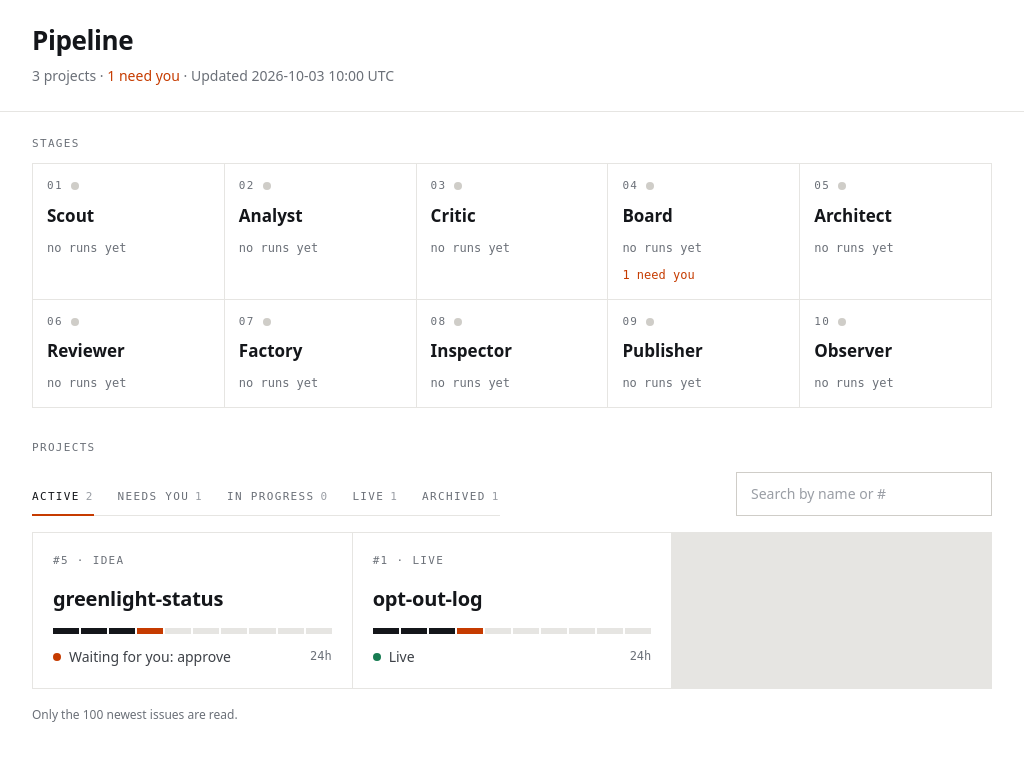
Test: Board › filters and searches
The image size is (1024, 768).
Click the button "Archived 1" at [461, 498], box [422,481,500,516]
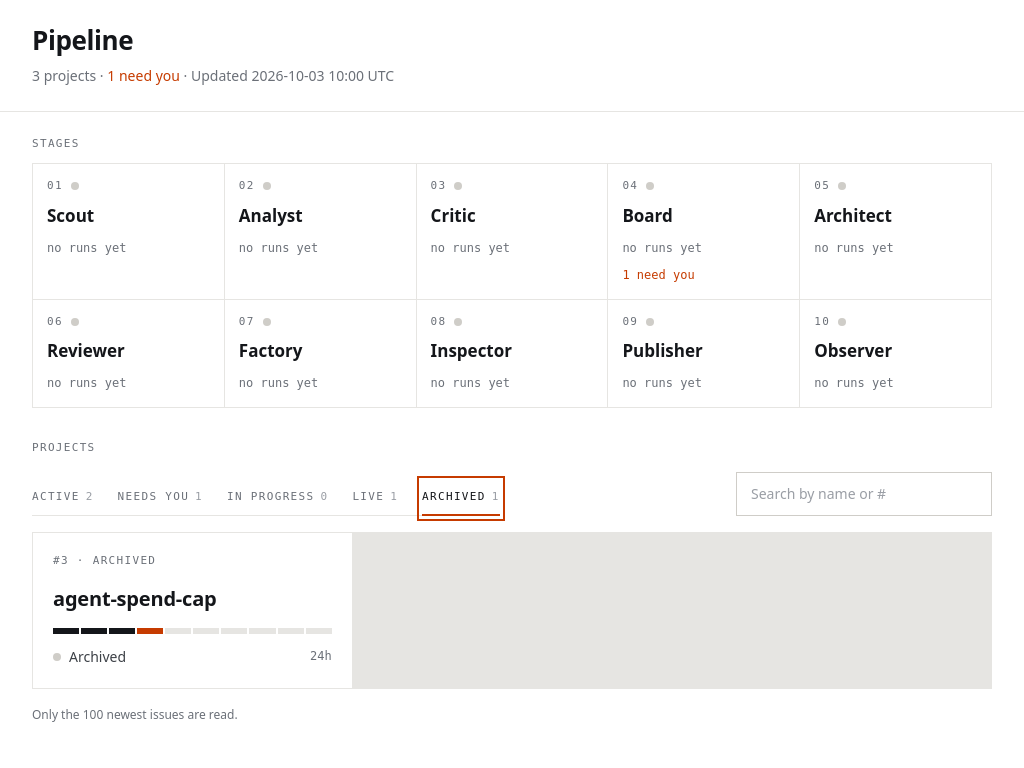
Check: the heading "agent-spend-cap" is shown, box [53,585,216,612]
Check: the link "opt-out-log" is gone
Click the button "Active 2" at [63, 498], box [32,481,94,516]
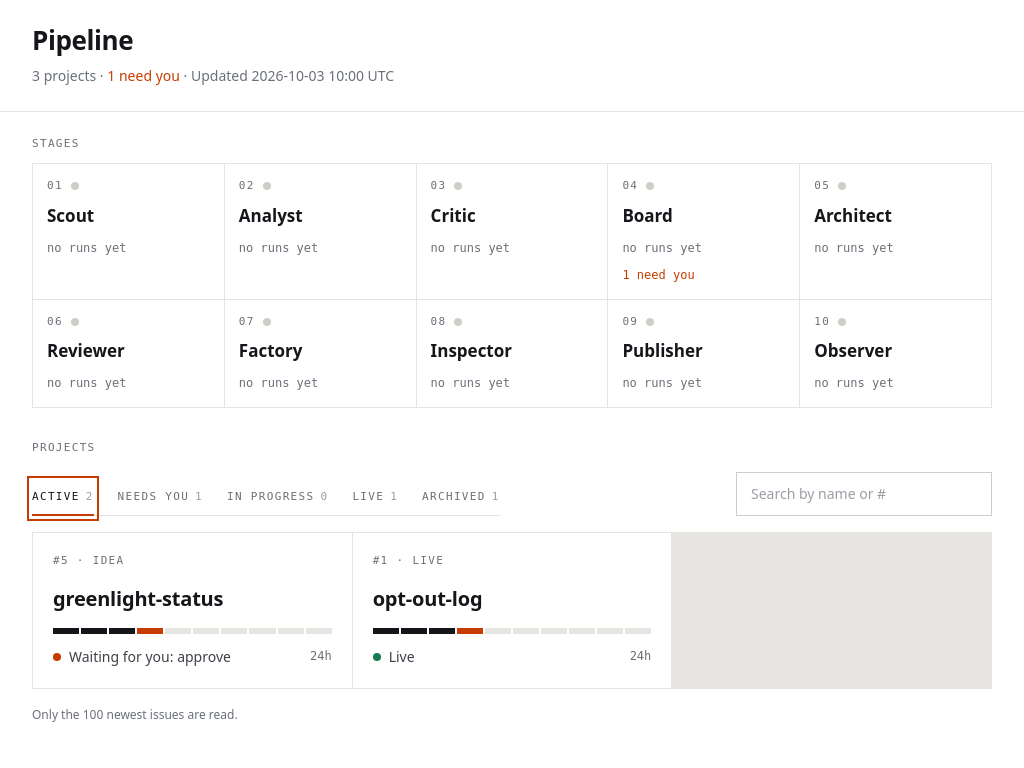
Type "zzz" into the search field named "Search projects" at [864, 494], box [736,472,992,516]
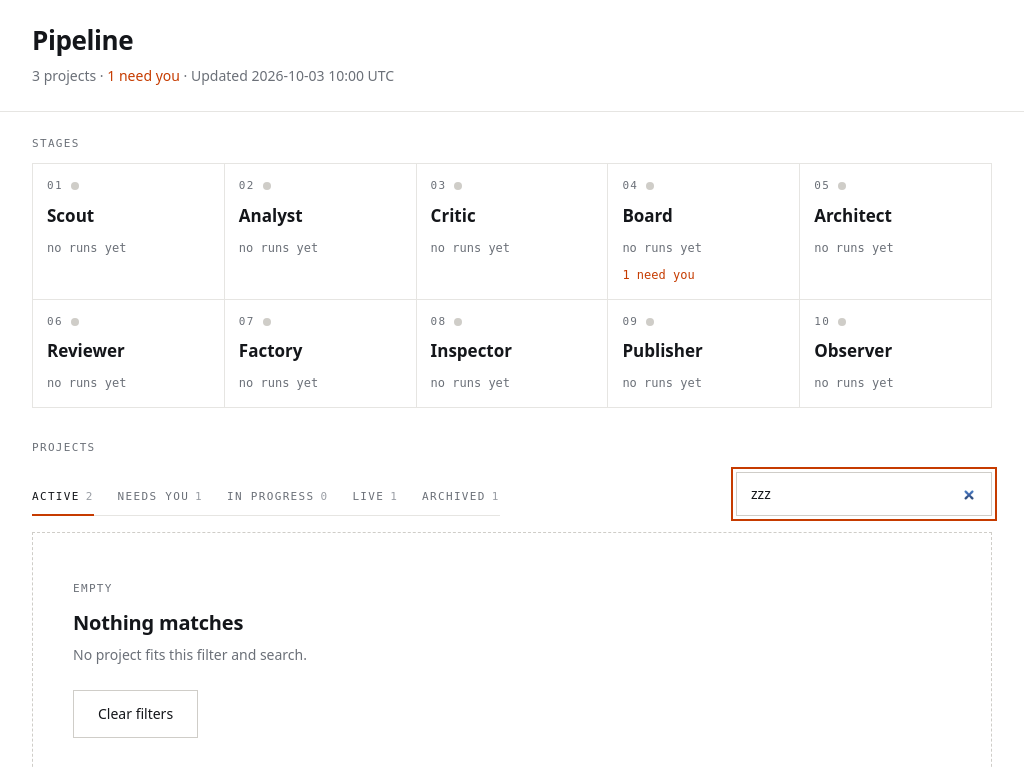
Check: the text "Nothing matches" is shown, box [73,609,243,636]
Click the button "Clear filters" at [136, 714], box [73,690,198,738]
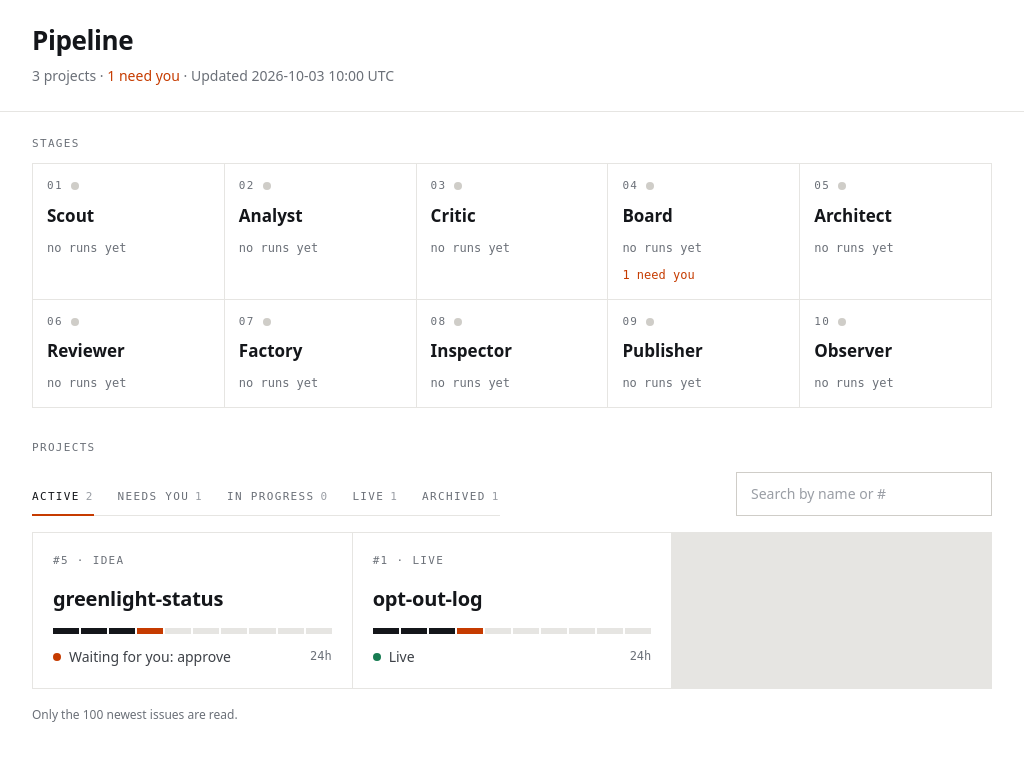
Check: the heading "opt-out-log" is shown, box [373,585,482,612]
